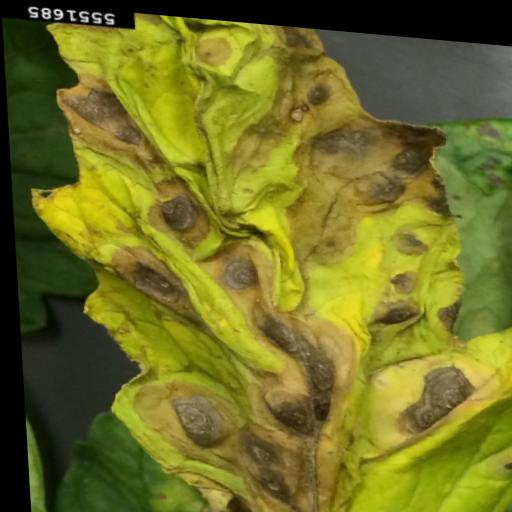Early Blight: (17, 1, 512, 512)
